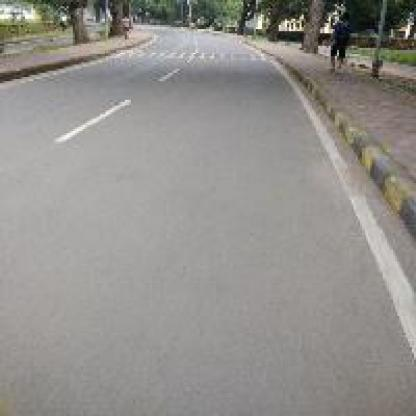Speed Bump: (106, 44, 277, 64)
